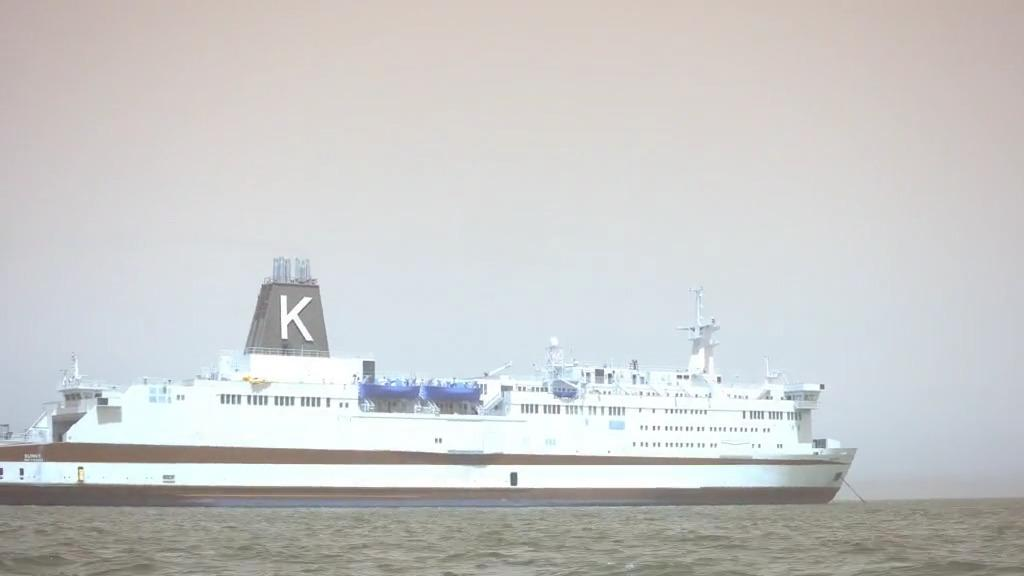PassengerShip: (0, 253, 866, 518)
